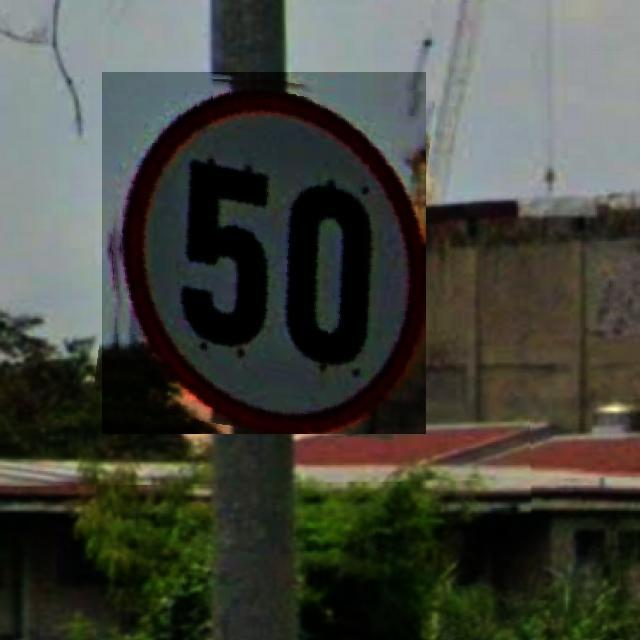50 kph: (102, 72, 426, 434)
